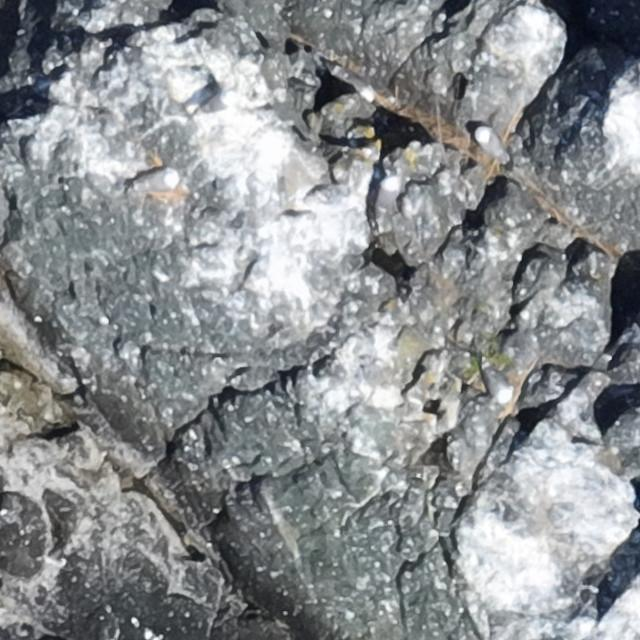umineko: (191, 89, 240, 118), (368, 175, 398, 219), (134, 168, 179, 190), (474, 128, 503, 158)
